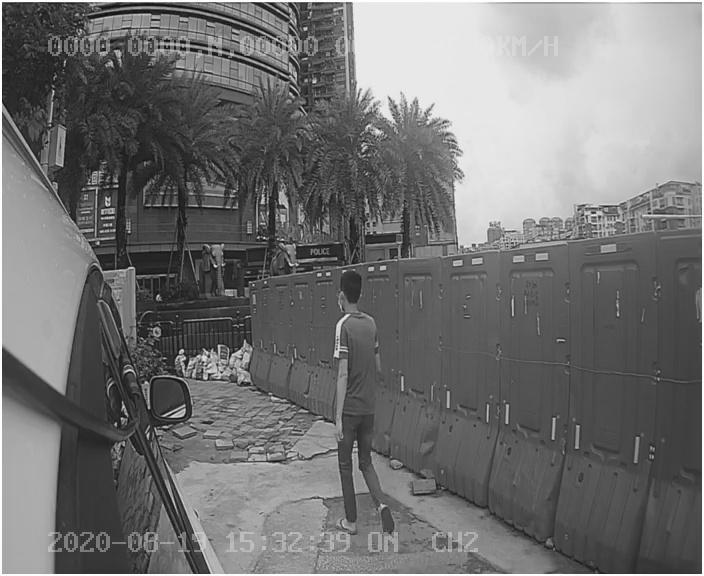person: (308, 266, 404, 534)
